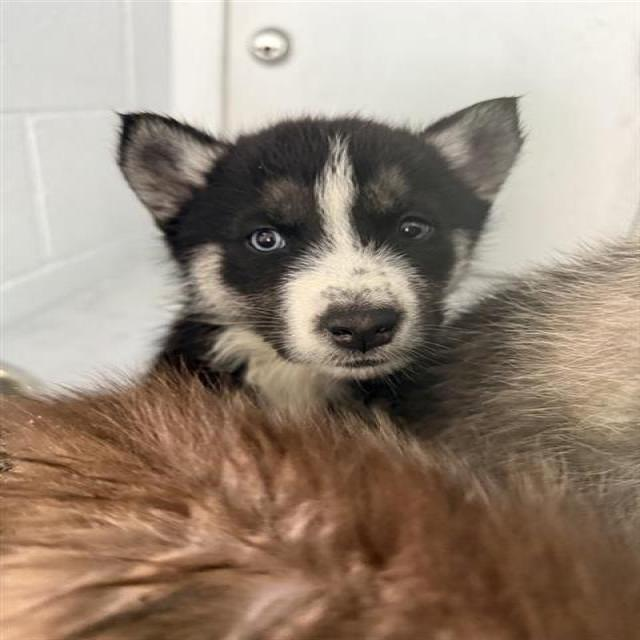siberian_husky_dog: (82, 75, 538, 445)
